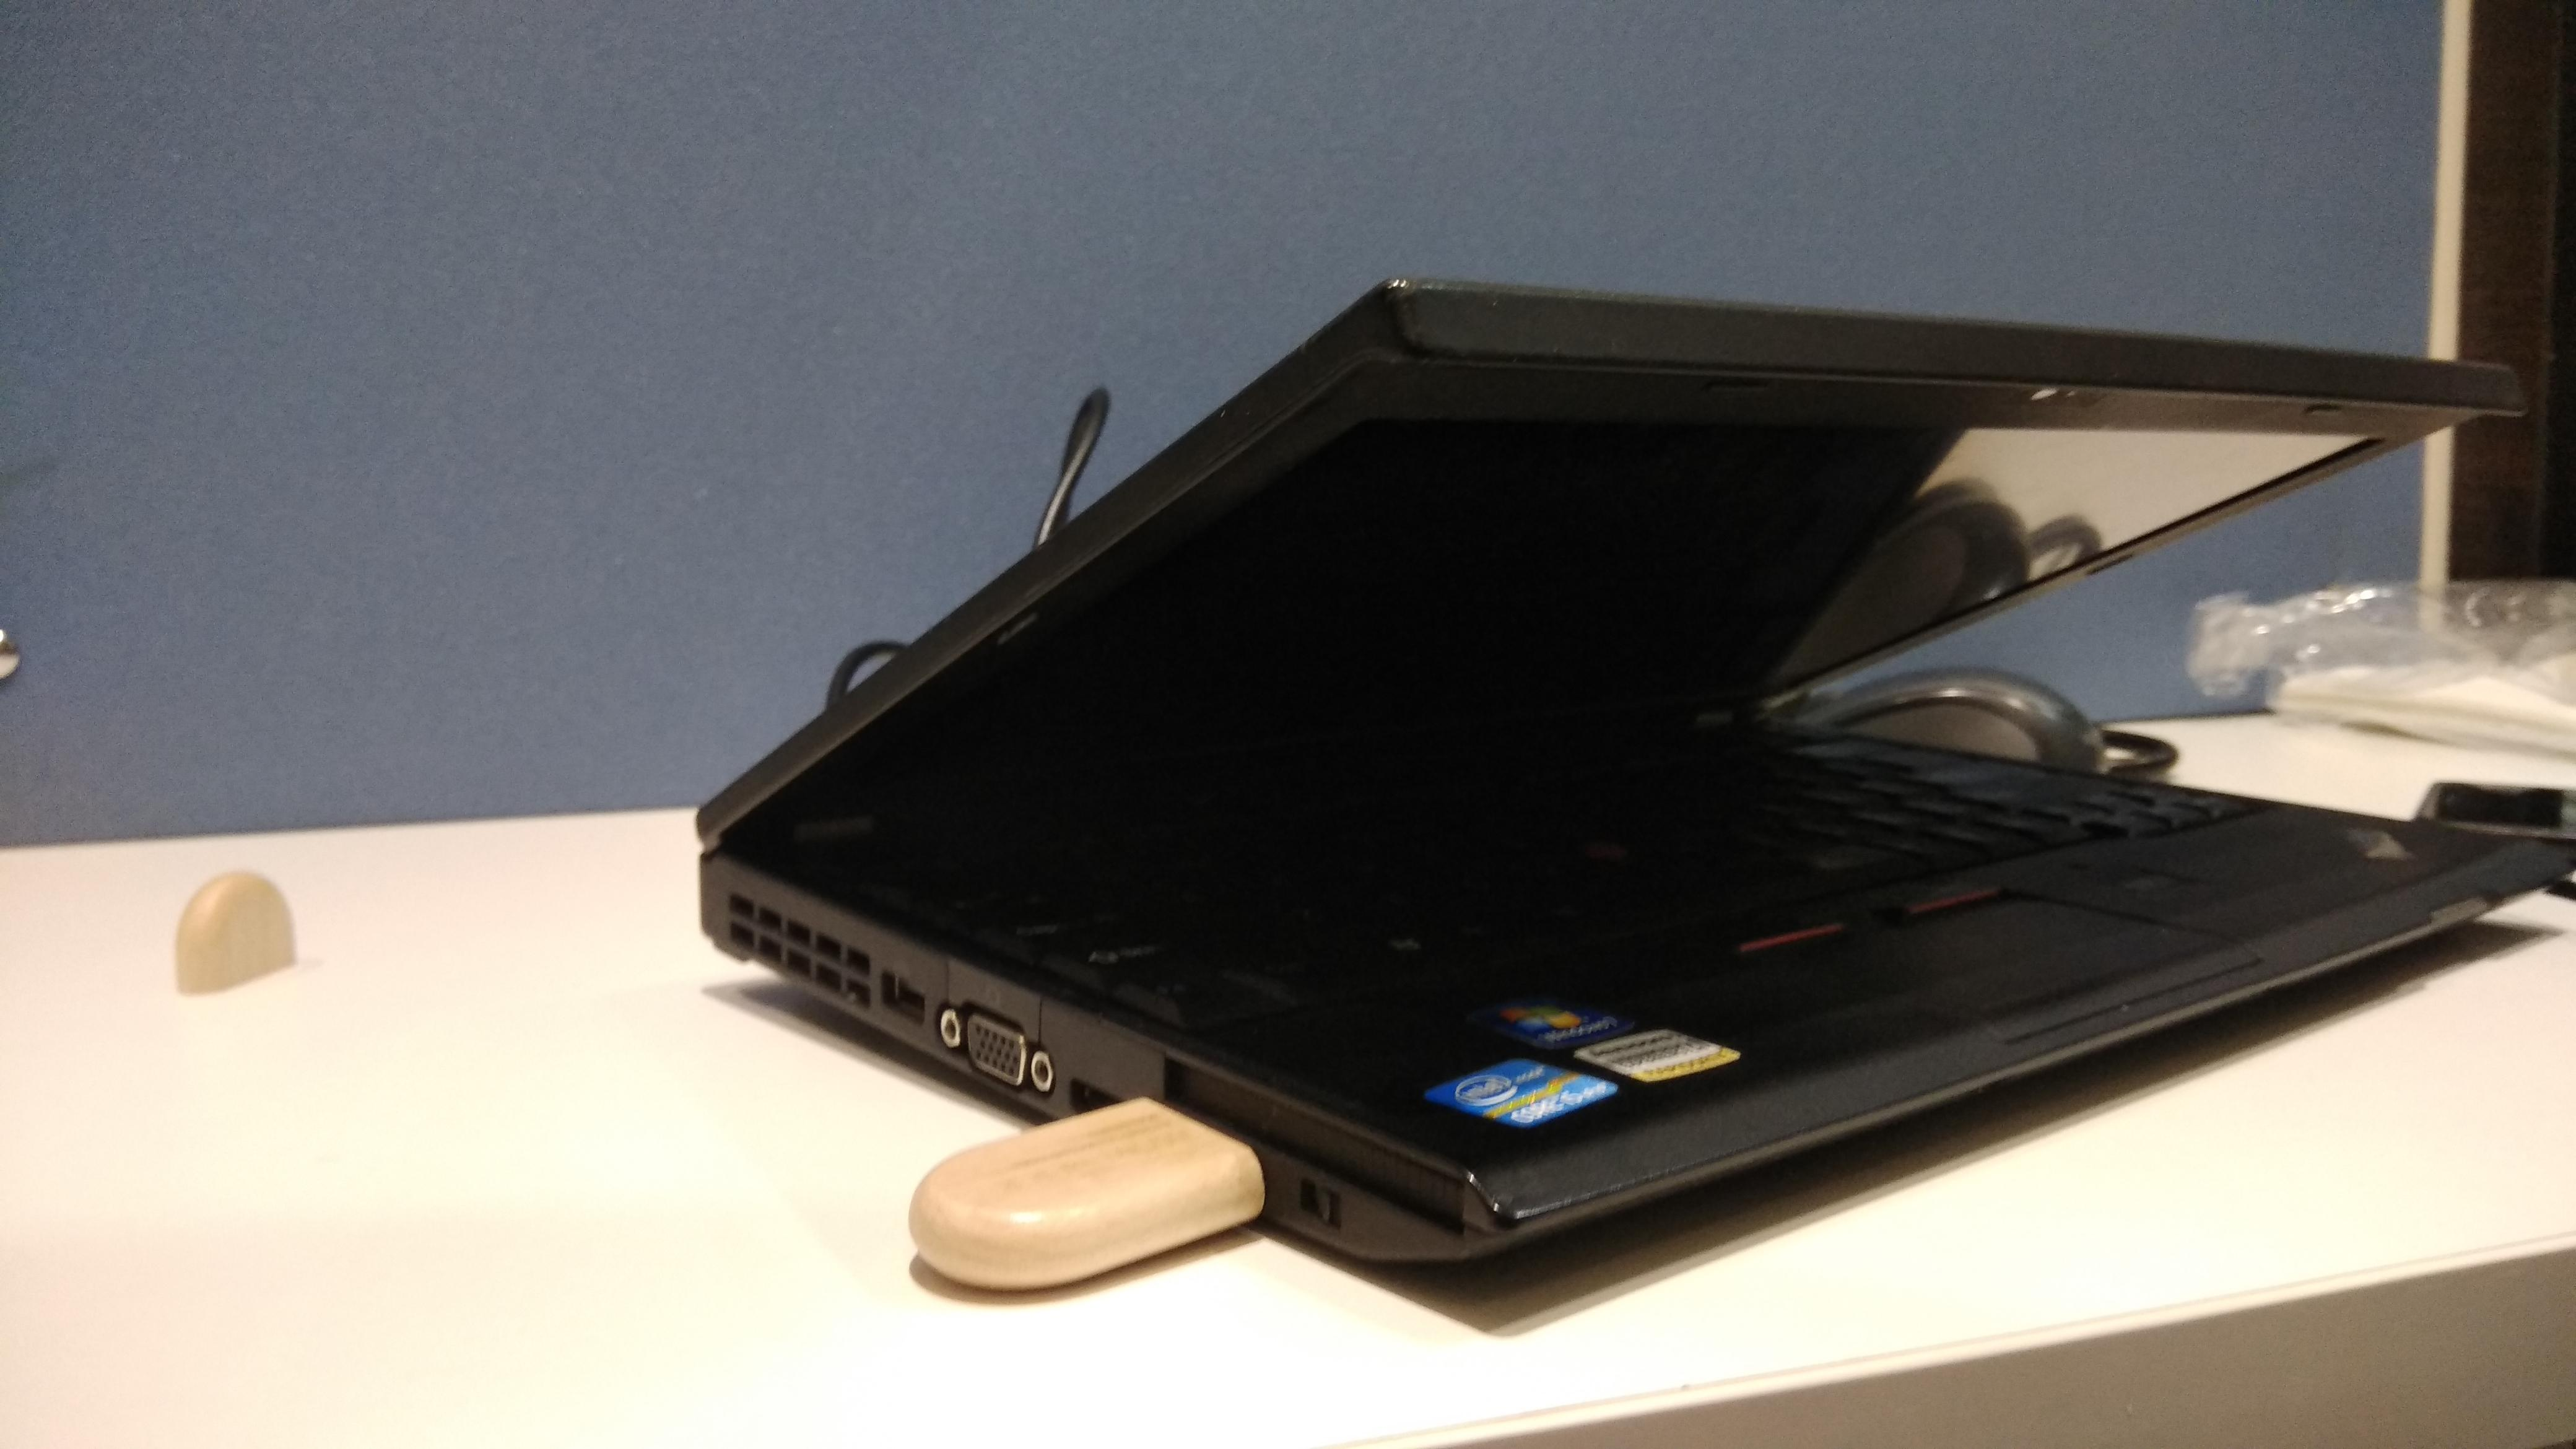laptop: (678, 251, 2576, 1368)
